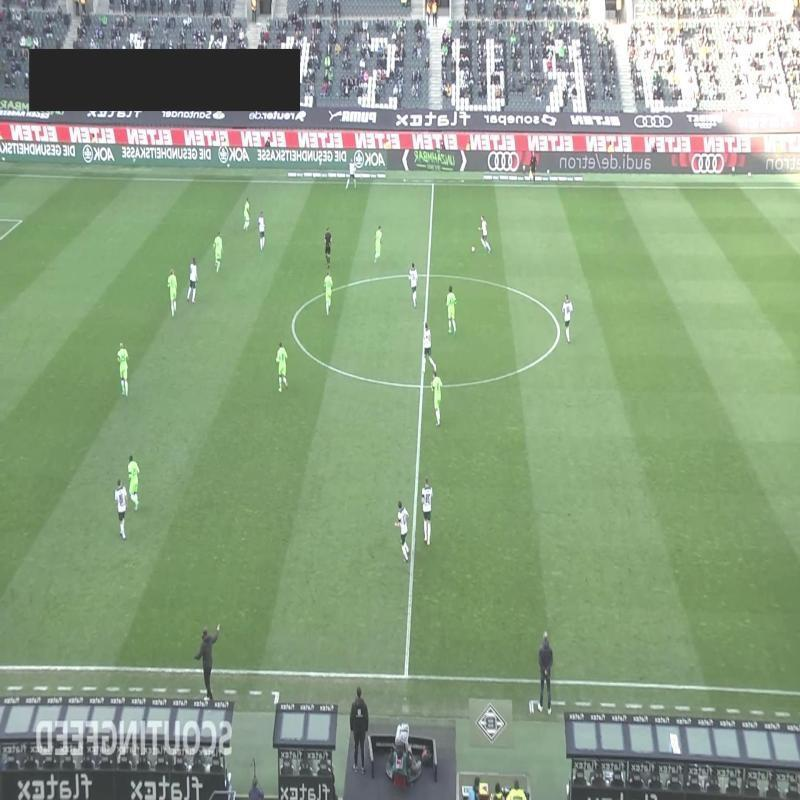13: (426, 176, 440, 190)
14: (420, 267, 435, 281)
15: (415, 380, 429, 394)
16: (392, 662, 420, 689)
9: (12, 213, 26, 227)
c: (284, 312, 302, 332), (549, 324, 563, 338)
